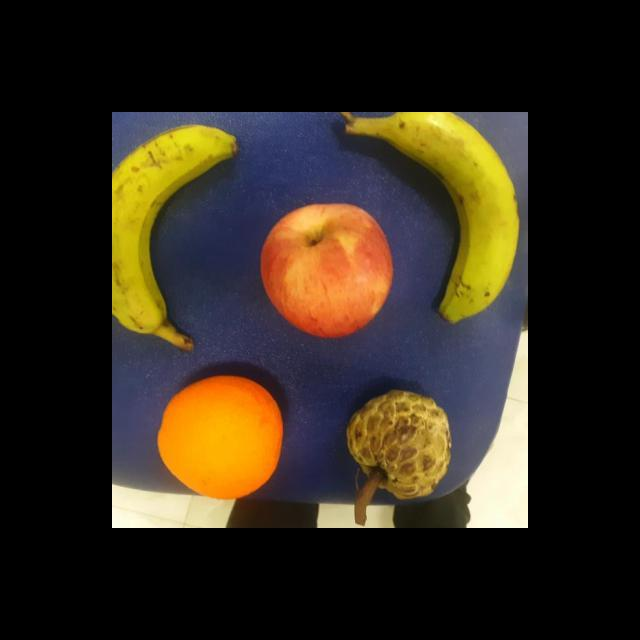Sakya fruit: (348, 384, 463, 502)
apple: (255, 200, 398, 342)
banana: (112, 125, 243, 343), (391, 113, 524, 324)
orange: (153, 365, 284, 497)
